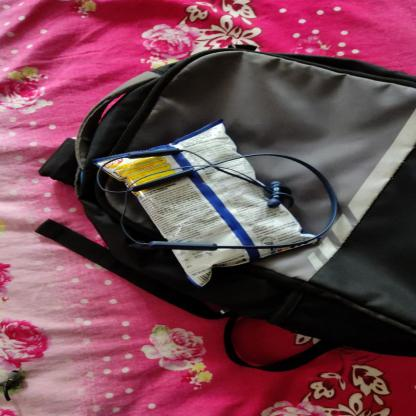plastic: (94, 127, 302, 286)
